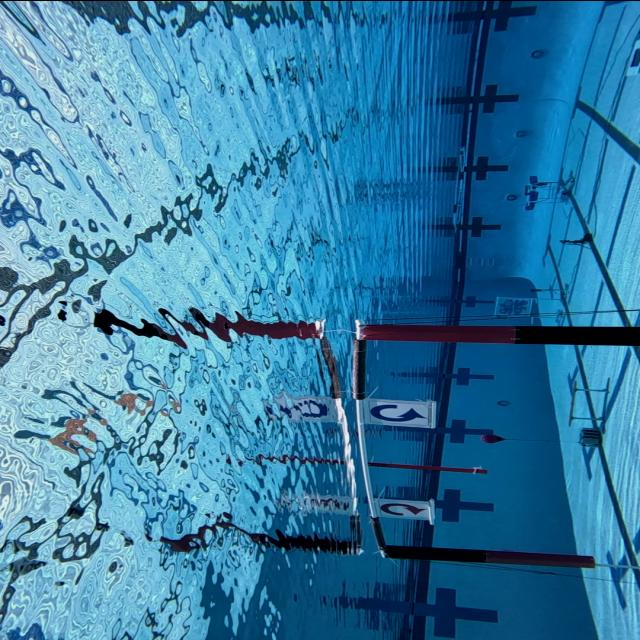blue_side: (364, 400, 437, 422)
red_side: (376, 499, 429, 518)
